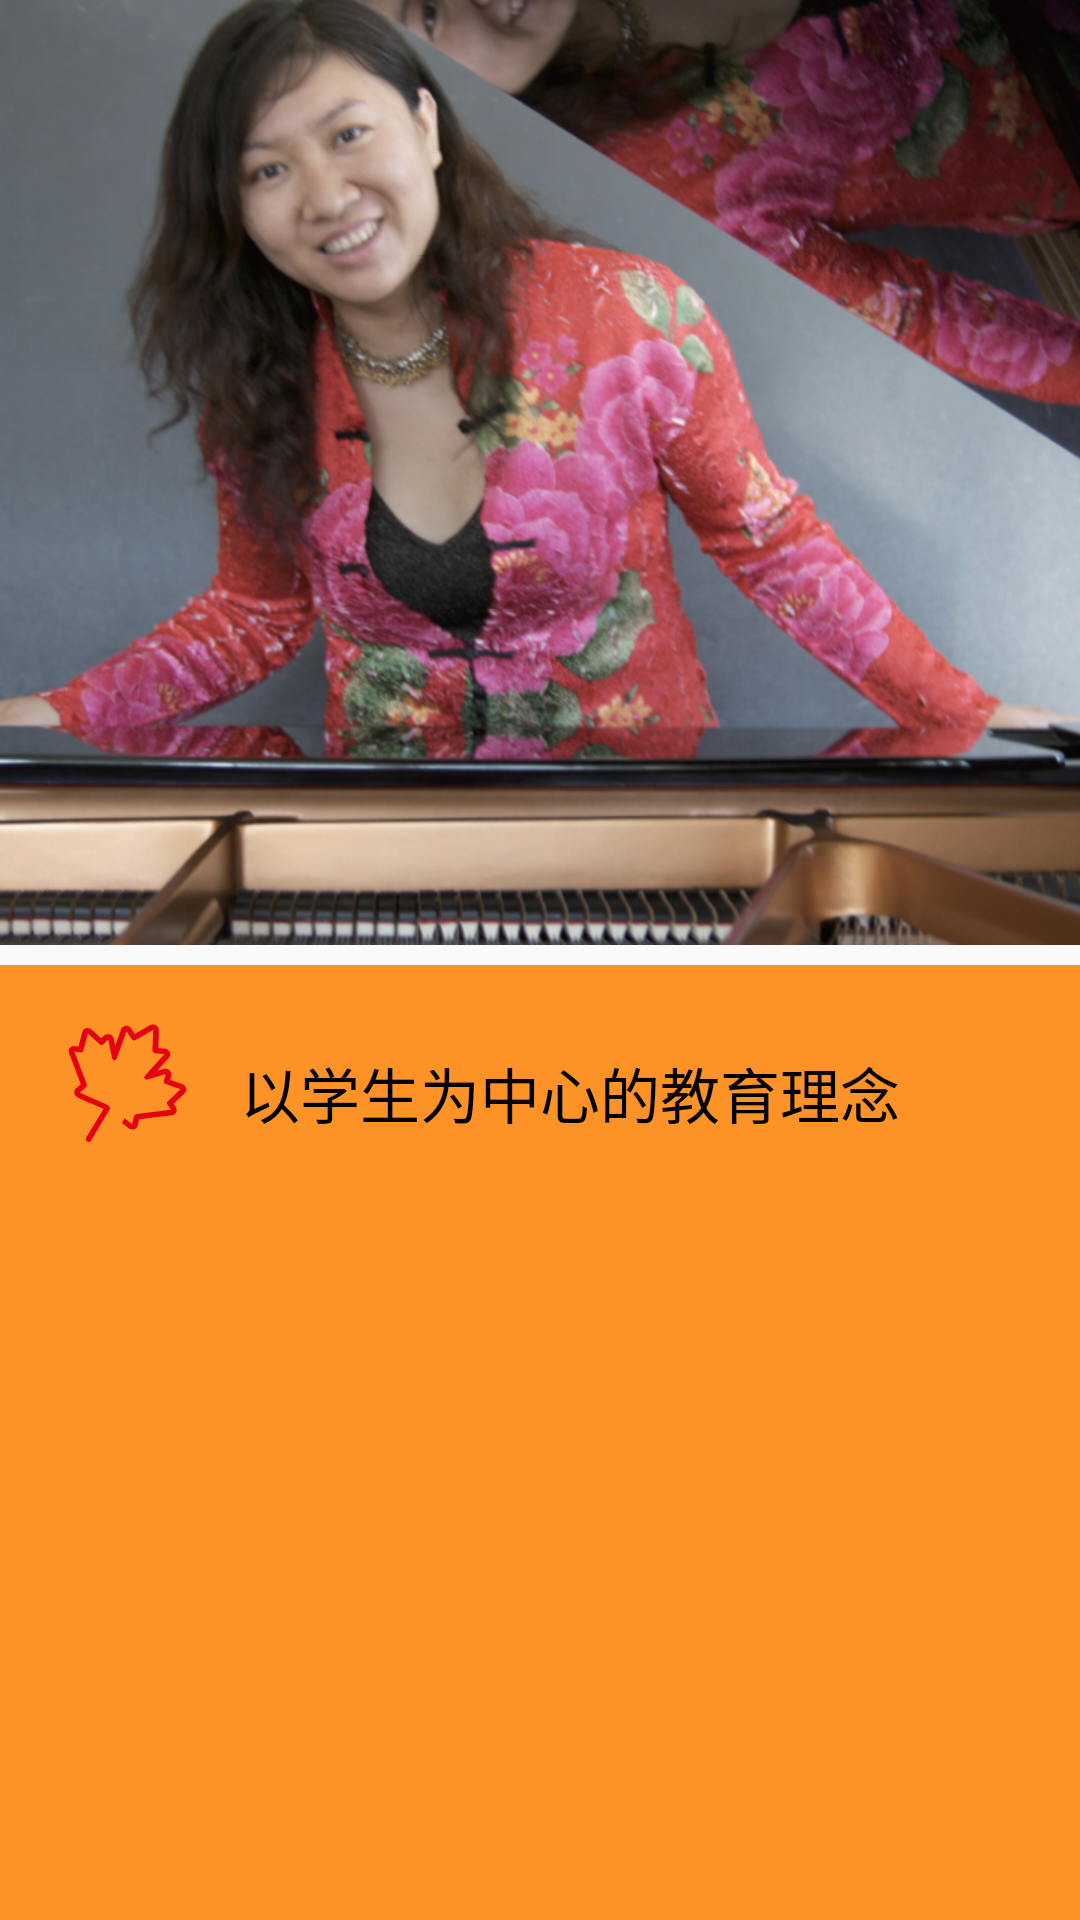

Icon bounding boxes for this 1080 × 1920 phone screenshot, format (x1, y1, x2, y2):
leaf: (68, 1024, 187, 1142)
